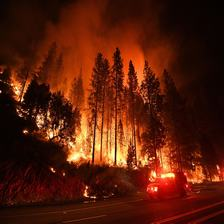fire: (10, 47, 207, 180)
